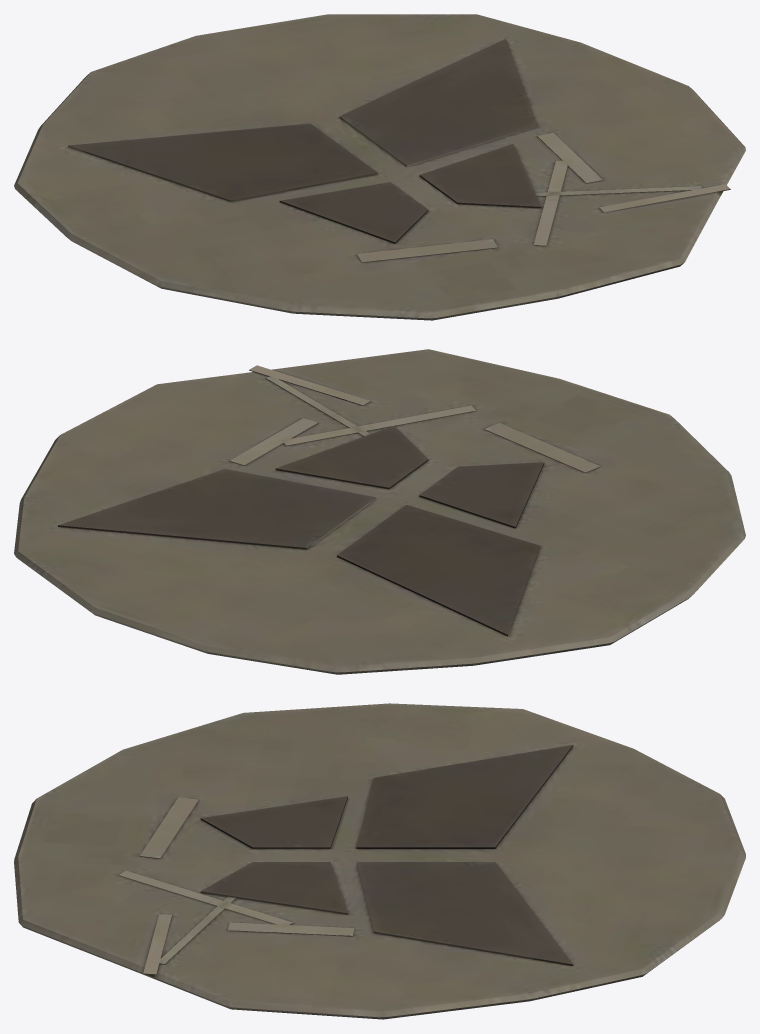
File: camp_mark_gloamoths.glb
The picture shows the model from 3 angles, top to bottom: view 1: azimuth 30°, elevation 25°; view 2: azimuth 150°, elevation 25°; view 3: azimuth 270°, elevation 25°; orthographic projection. The views are drawn at different scales.
Visible parts, largest first — view 1: camp_mark_gloamoths_body; view 2: camp_mark_gloamoths_body; view 3: camp_mark_gloamoths_body.
Boxes of the visible parts, left/top/right/bottom form: camp_mark_gloamoths_body: left=14, top=14, right=745, bottom=320; camp_mark_gloamoths_body: left=14, top=349, right=745, bottom=674; camp_mark_gloamoths_body: left=14, top=703, right=745, bottom=1019.
Bounding box in the file's own units: 1.7 × 0.0245 × 1.69.
1 material, 1 textured.
